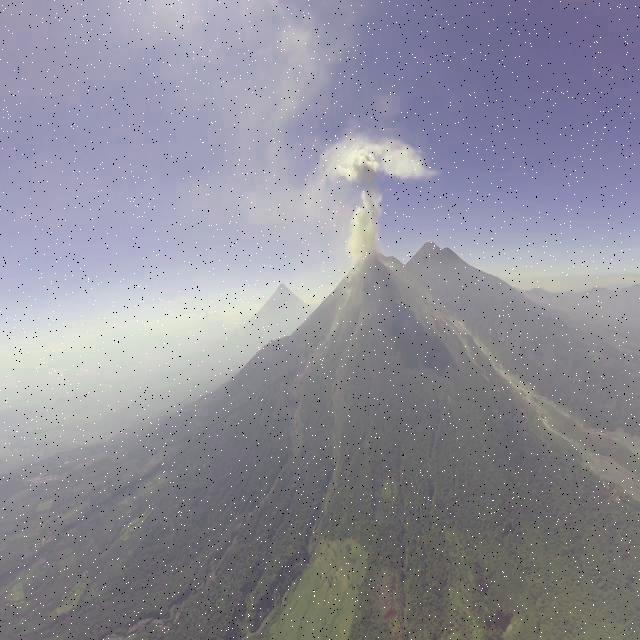Plume: (343, 186, 382, 264), (333, 148, 388, 184)
Summit: (342, 243, 396, 275)
